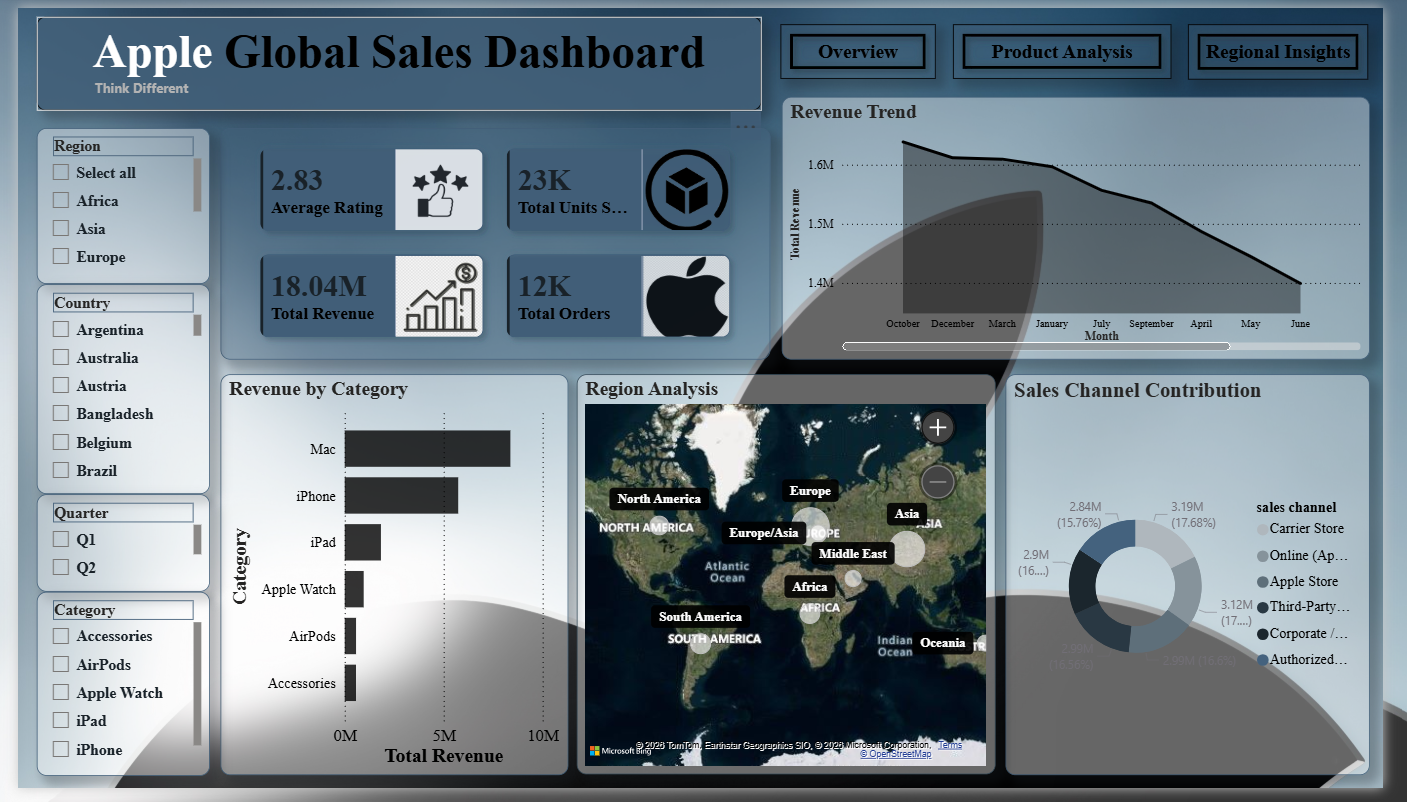

Layout of this report page (visuals, bound fields, positions):
{"tool":"powerbi","page":{"name":"Overview","canvas":[1400,800],"ordinal":0},"visuals":[{"type":"textbox","box":[18.9,9.4,743.4,96.2],"z":0},{"type":"cardVisual","fields":{"Data":["apple_global_sales_dataset.Average Rating","apple_global_sales_dataset.Total Units Sold","apple_global_sales_dataset.Total Revenue","apple_global_sales_dataset.Total Orders"]},"box":[207.5,122.6,564.2,237.7],"z":1000},{"type":"lineChart","title":"Revenue Trend","fields":{"Y":["apple_global_sales_dataset.Total Revenue"],"Category":["apple_global_sales_dataset.month"]},"box":[783.1,90.8,603.1,269.2],"z":2000},{"type":"clusteredBarChart","title":"Revenue by Category","fields":{"Y":["apple_global_sales_dataset.Total Revenue"],"Category":["apple_global_sales_dataset.category"]},"box":[207.5,375.5,356.6,411.3],"z":3000},{"type":"slicer","title":"Region","fields":{"Values":["apple_global_sales_dataset.region"]},"box":[18.9,122.6,177.4,160.4],"z":4000},{"type":"slicer","fields":{"Values":["apple_global_sales_dataset.country"]},"box":[18.9,283,177.4,215.1],"z":5000},{"type":"slicer","fields":{"Values":["apple_global_sales_dataset.quarter"]},"box":[18.9,498.1,177.4,100],"z":6000},{"type":"slicer","fields":{"Values":["apple_global_sales_dataset.category"]},"box":[18.9,598.1,177.4,188.7],"z":7000},{"type":"donutChart","title":"Sales Channel Contribution","fields":{"Y":["apple_global_sales_dataset.Total Revenue"],"Category":["apple_global_sales_dataset.sales_channel"]},"box":[1013.2,375.5,373.6,411.3],"z":8000},{"type":"actionButton","box":[782.6,17.1,159,56.1],"z":9000},{"type":"actionButton","box":[959,17,224,56],"z":10000},{"type":"actionButton","box":[1200,17,185,57],"z":11000},{"type":"map","title":"Region Analysis","fields":{"Category":["apple_global_sales_dataset.region"],"Size":["apple_global_sales_dataset.Total Revenue"]},"box":[573.1,375.6,429.5,410.3],"z":12000}]}

Visuals, with their boxes in screenshot pixels (x1, y1, x2, y2), scaled from the page's 1400x800 canvas onto the 1407x802 screenshot:
textbox: box(19, 9, 766, 106)
cardVisual - apple_global_sales_dataset.Average Rating x apple_global_sales_dataset.Total Units Sold: box(209, 123, 776, 361)
"Revenue Trend" lineChart: box(787, 91, 1393, 361)
"Revenue by Category" clusteredBarChart: box(209, 376, 567, 789)
"Region" slicer: box(19, 123, 197, 284)
slicer - apple_global_sales_dataset.country: box(19, 284, 197, 499)
slicer - apple_global_sales_dataset.quarter: box(19, 499, 197, 600)
slicer - apple_global_sales_dataset.category: box(19, 600, 197, 789)
"Sales Channel Contribution" donutChart: box(1018, 376, 1394, 789)
actionButton: box(787, 17, 946, 73)
actionButton: box(964, 17, 1189, 73)
actionButton: box(1206, 17, 1392, 74)
"Region Analysis" map: box(576, 377, 1008, 788)
